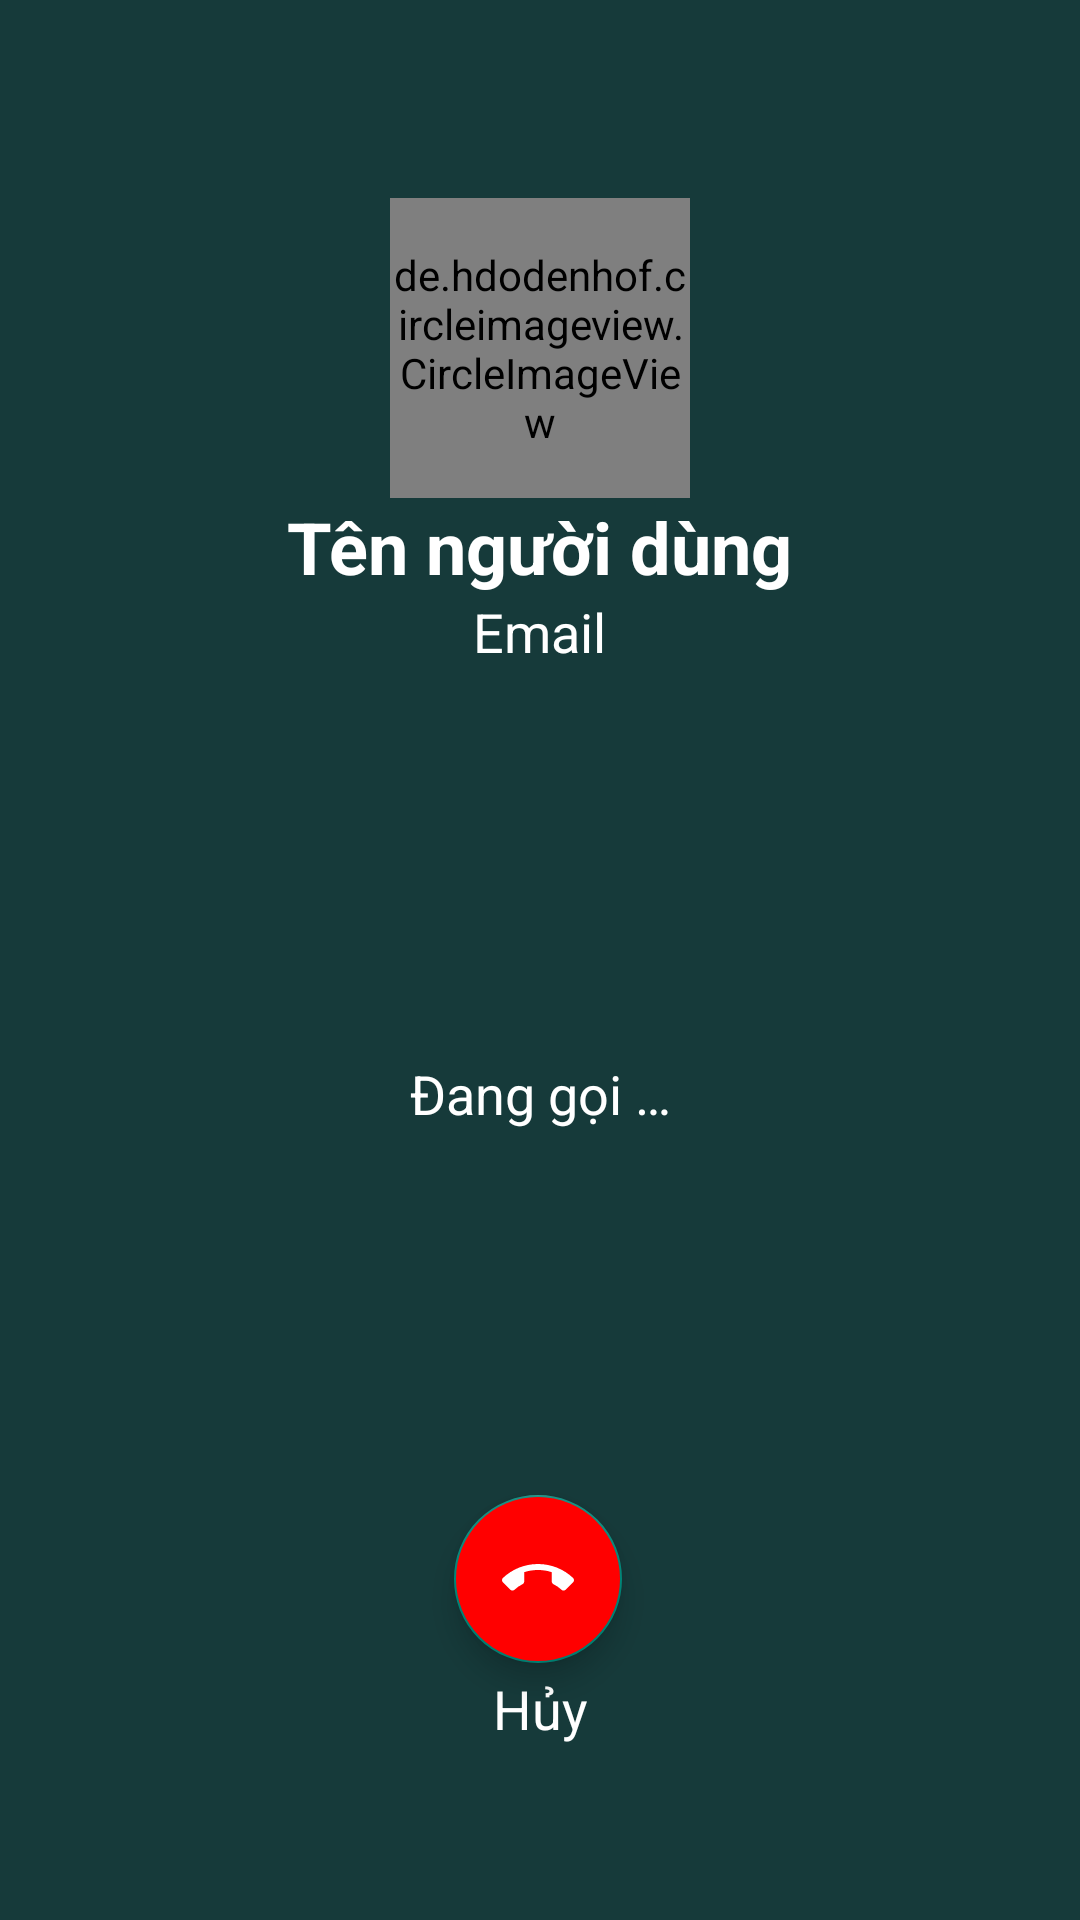

Icon click points for this 1080*1920 phone screenshot, format [x,y]:
call end: [538,1579]
